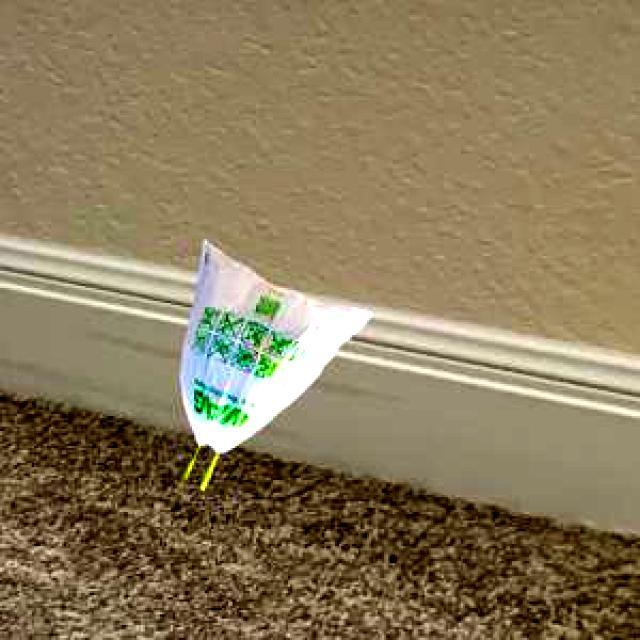Plastic_Bag: (178, 238, 368, 488)
